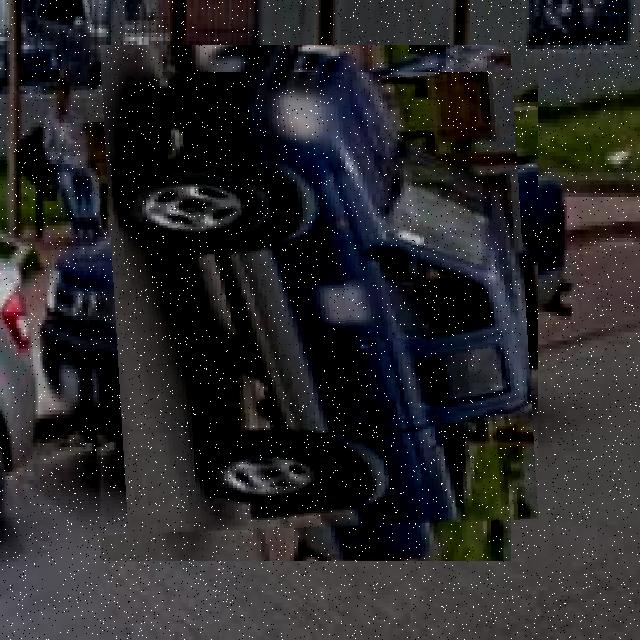car: (75, 73, 539, 536)
